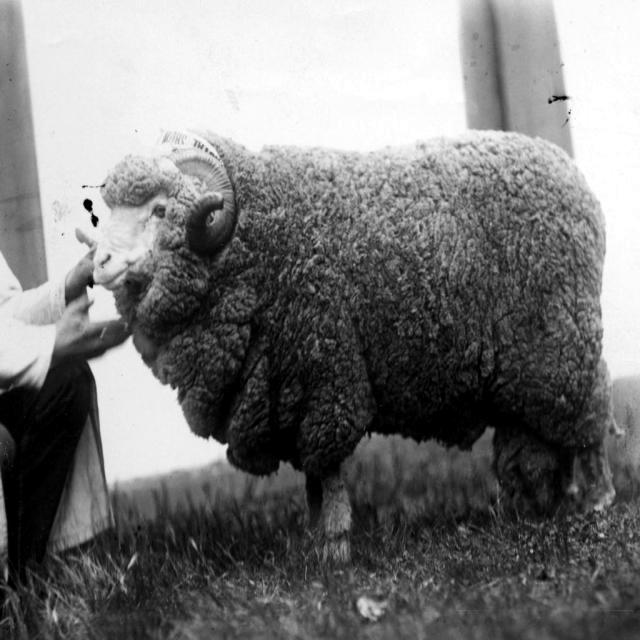sheep: (99, 125, 609, 521)
